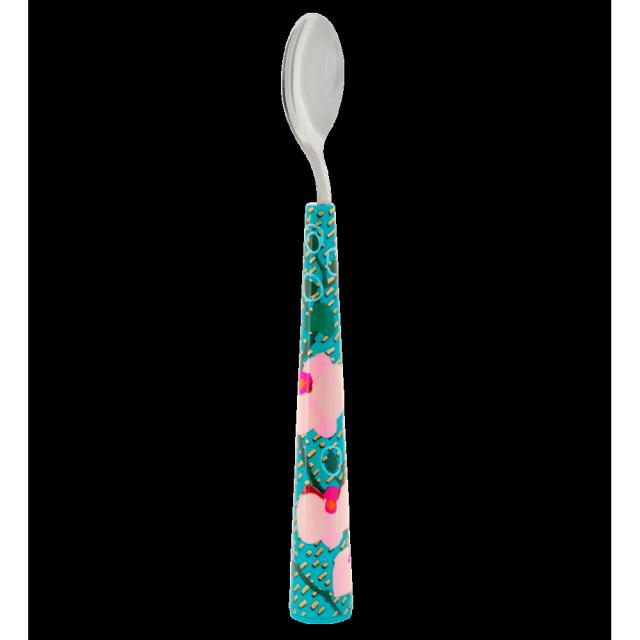spoon: (255, 0, 383, 639)
